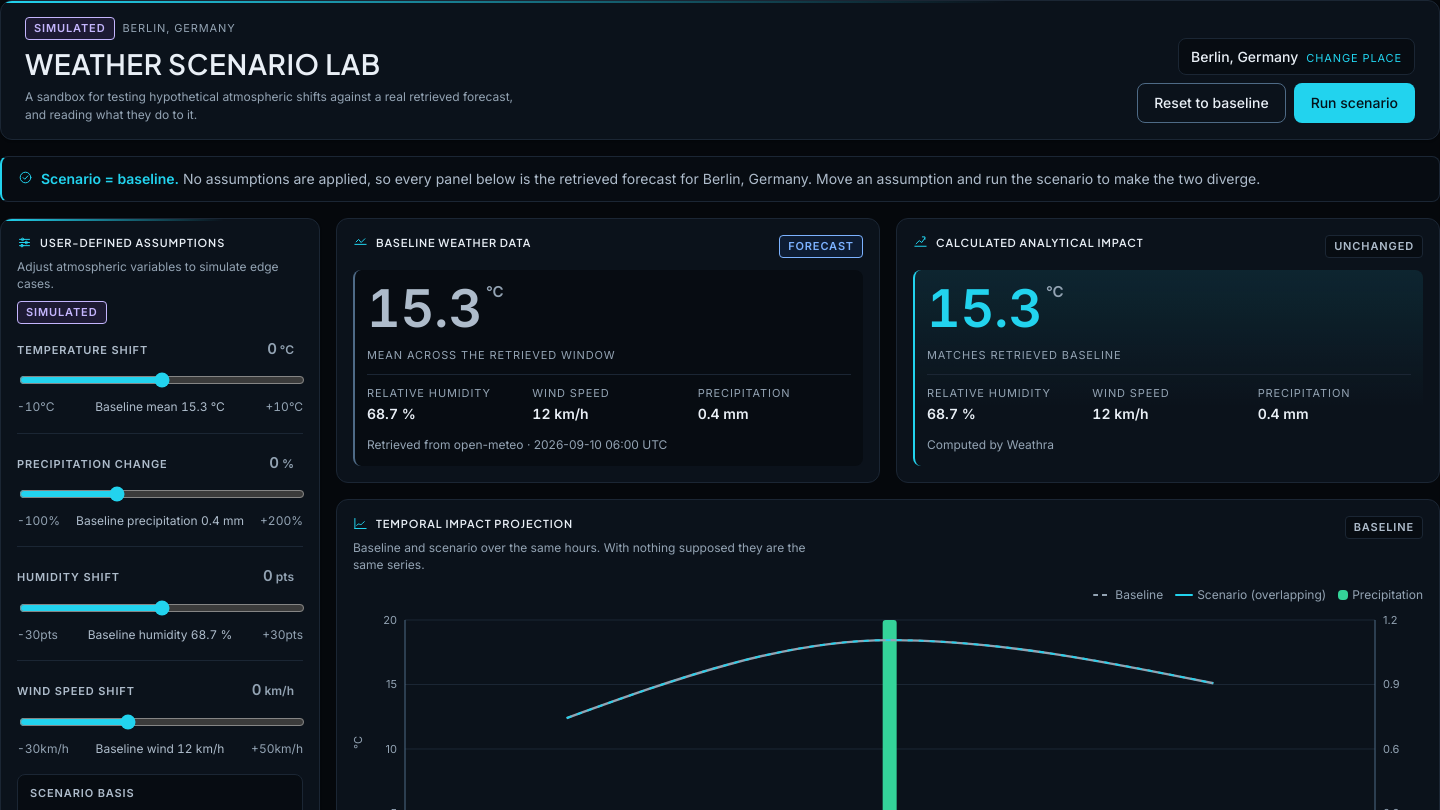
Test: the assumptions rail › reads a shift back signed, with its unit, as it is moved
The width and height of the screenshot is (1440, 810).
Check: the heading "User-defined assumptions" is shown, box [17, 235, 225, 250]
Replace the text in the number field named "Temperature shift, exact value" with "2.5" at (252, 349), box [227, 339, 277, 359]
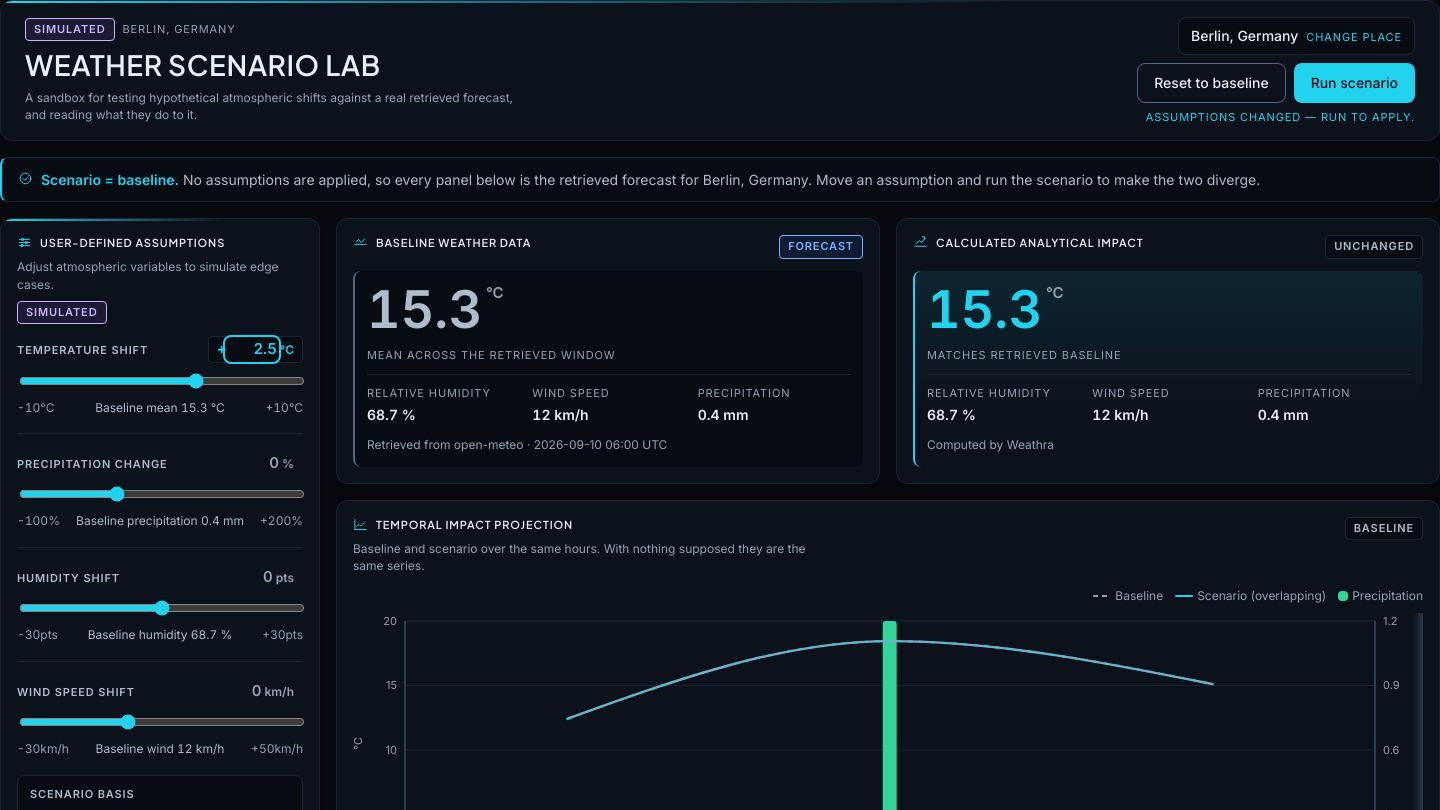
Check: the text "°C" below "User-defined assumptions" is shown, box [280, 342, 294, 357]
Check: the slider labelled "Temperature shift" holds "2.5", box [19, 373, 305, 389]
Check: the text "+" is shown, box [217, 339, 226, 360]
